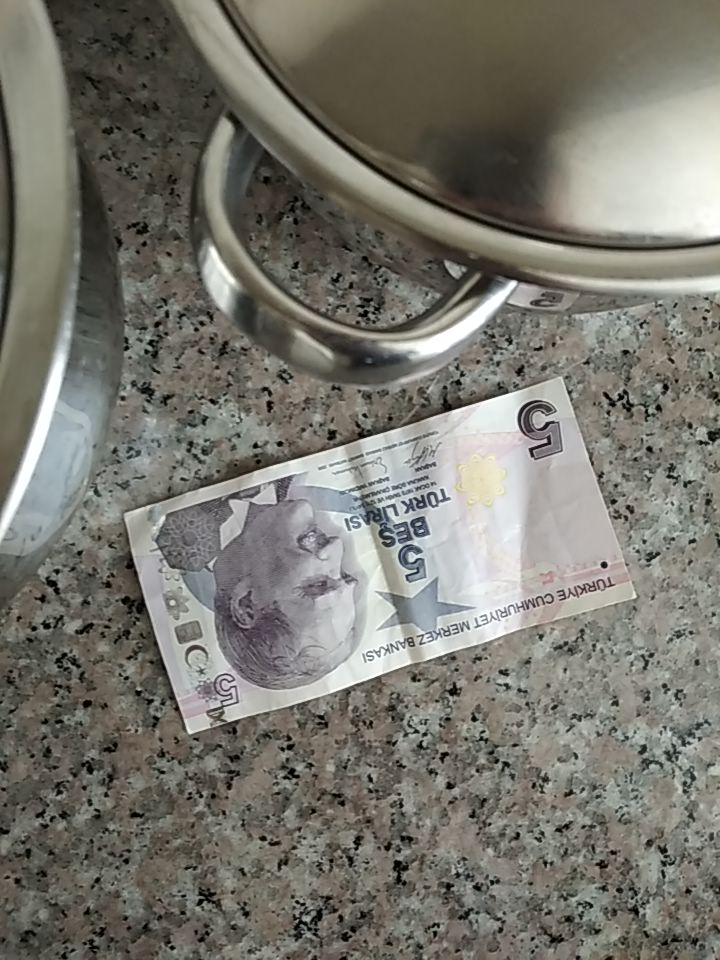5TL: (118, 374, 641, 740)
